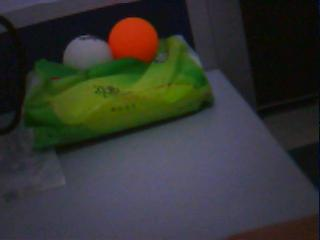oball: (109, 17, 157, 63)
